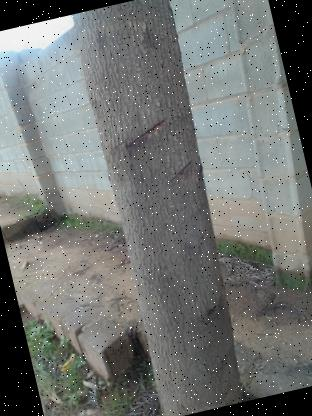tree: (61, 0, 254, 416)
